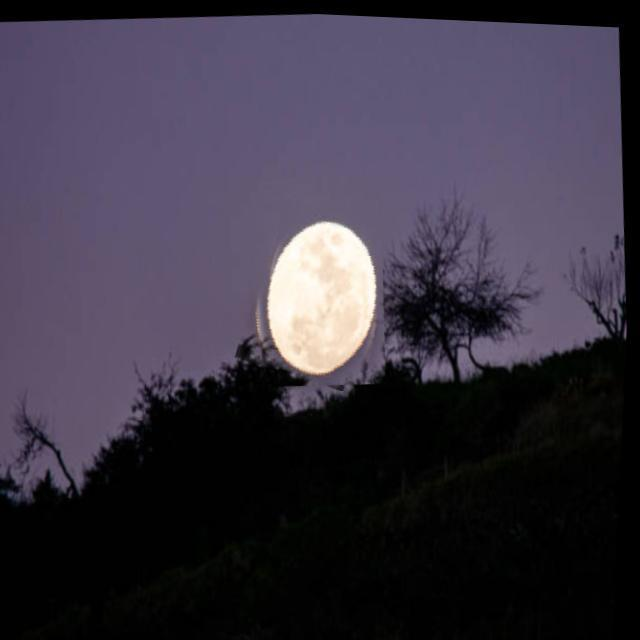moon: (238, 193, 394, 389)
